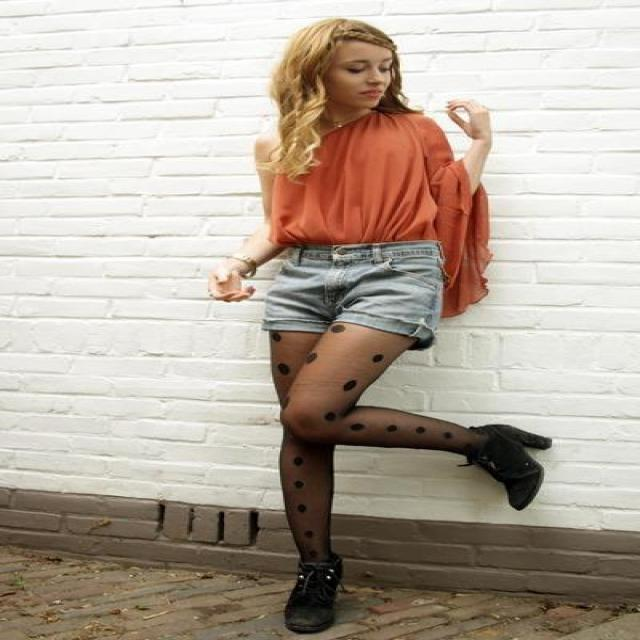shirt: (266, 102, 492, 317)
shoe: (284, 424, 550, 634)
shorts: (243, 232, 454, 354)
